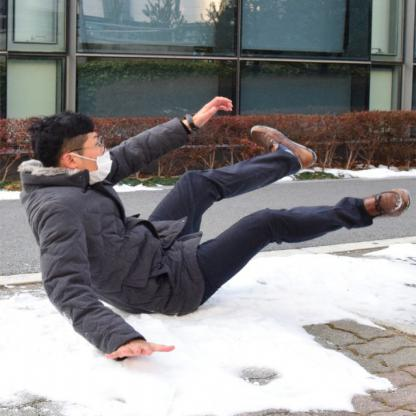Fall_Down: (20, 94, 413, 363)
